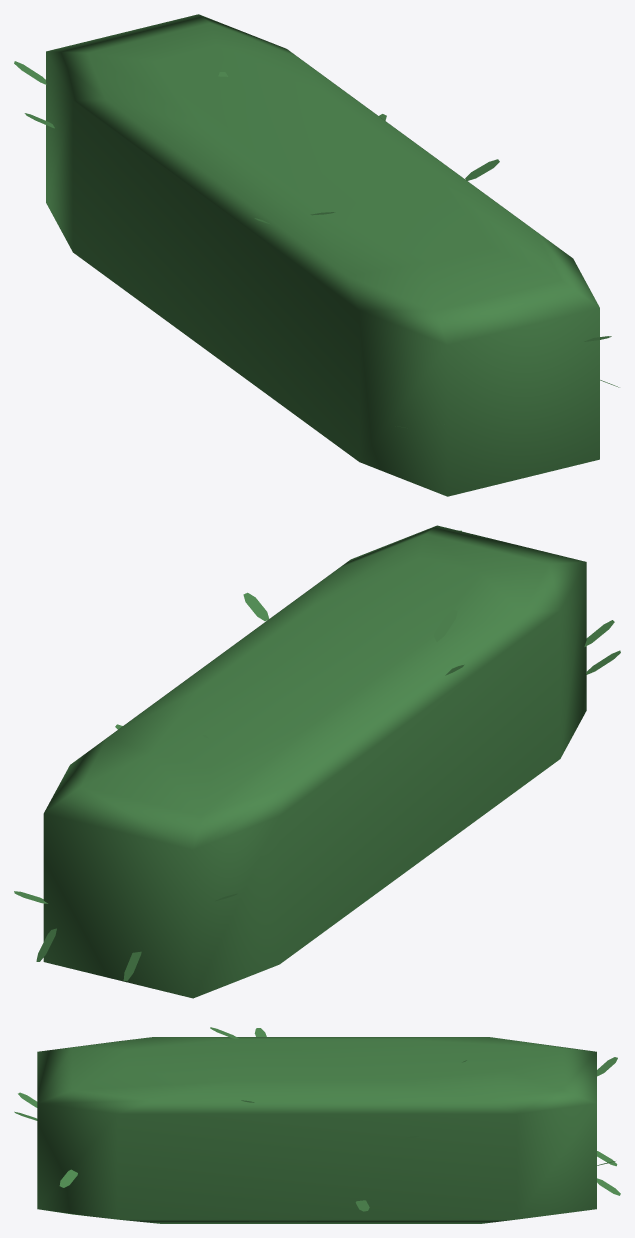
Rendered from BushNormal.fbx.
3 views of the same model, one above another, from view 1: azimuth 30°, elevation 25°; view 2: azimuth 150°, elevation 25°; view 3: azimuth 270°, elevation 25° (orthographic). The views are drawn at different scales.
Visible parts, largest first — view 1: pPlane42; view 2: pPlane42; view 3: pPlane42.
Boxes of the visible parts, x1,y1,x2,y2 form: pPlane42: (14, 14, 619, 496); pPlane42: (14, 525, 620, 998); pPlane42: (14, 1027, 620, 1223).
Size of the model in its own units: 0.9205 by 0.7471 by 2.73.
